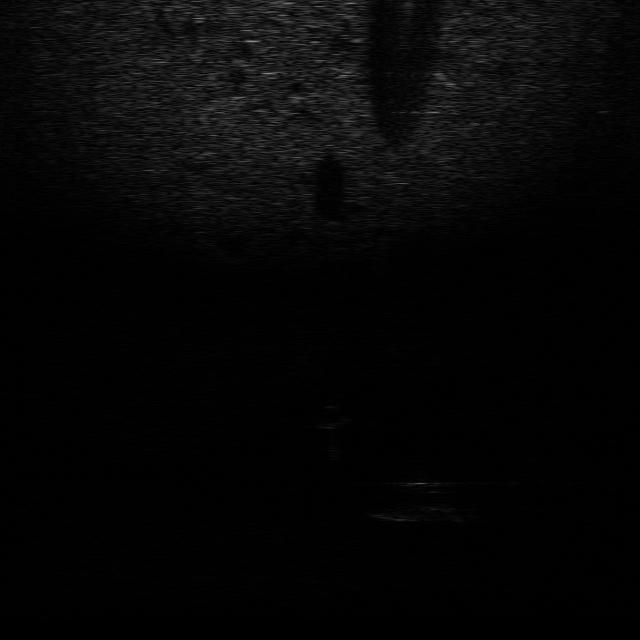ball: (308, 401, 352, 432)
tyre: (366, 473, 450, 522)
